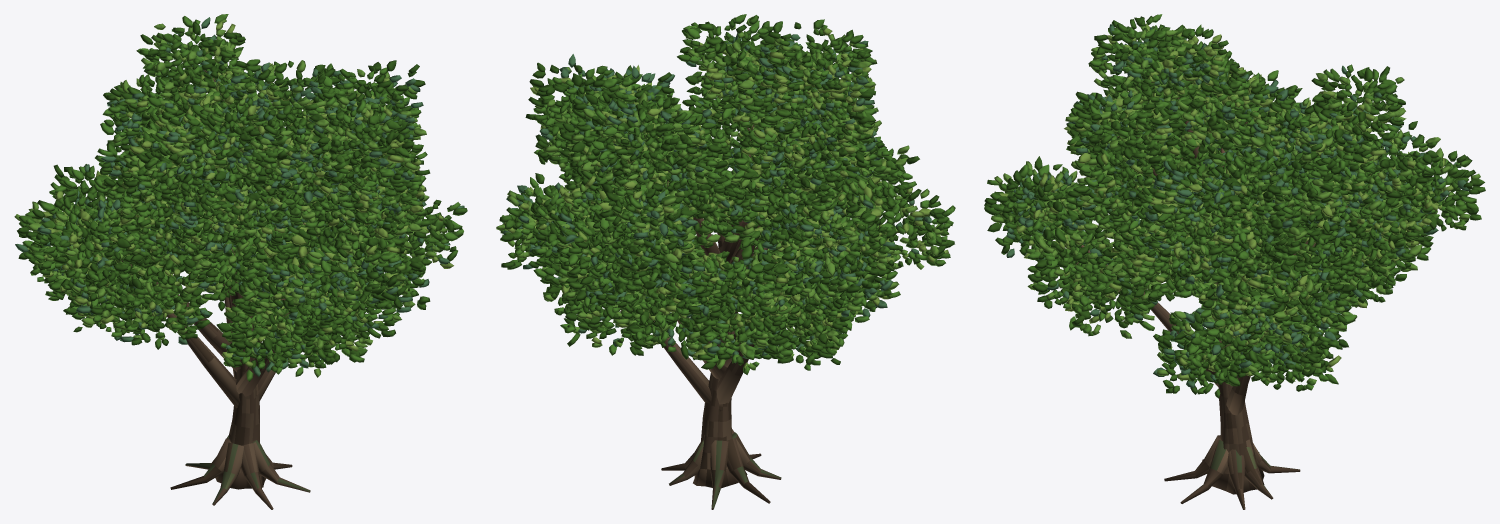
Rendered from forest-tree-1.glb.
3 views of the same model, side by side, from view 1: azimuth 30°, elevation 25°; view 2: azimuth 150°, elevation 25°; view 3: azimuth 270°, elevation 25° (orthographic).
Visible parts, largest first — view 1: forest-tree-1/1, forest-tree-1/0; view 2: forest-tree-1/1, forest-tree-1/0; view 3: forest-tree-1/1, forest-tree-1/0.
Boxes of the visible parts, x1,y1,x2,y2 form: forest-tree-1/1: (14, 14, 467, 381); forest-tree-1/0: (121, 70, 408, 509); forest-tree-1/1: (496, 14, 955, 374); forest-tree-1/0: (620, 119, 899, 509); forest-tree-1/1: (984, 14, 1485, 398); forest-tree-1/0: (1055, 97, 1354, 509).
Size of the model in its own units: 9.03 by 8.43 by 9.03.
